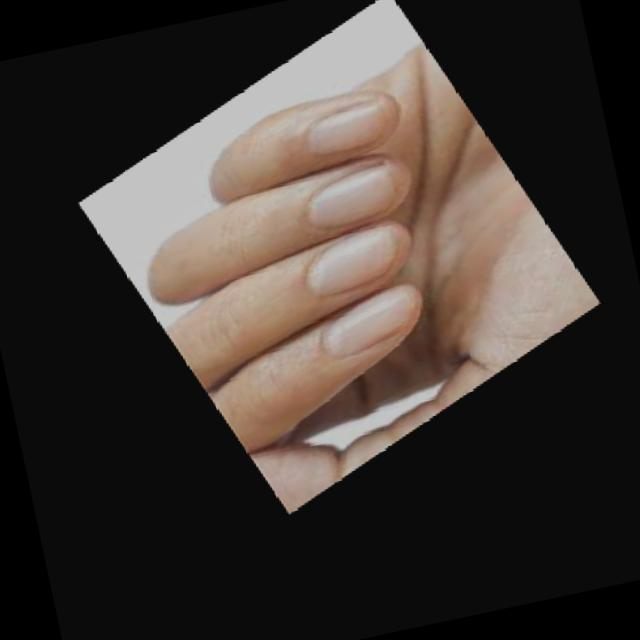Nail: (305, 222, 396, 297), (326, 286, 413, 355), (307, 163, 395, 228), (309, 99, 388, 154)
